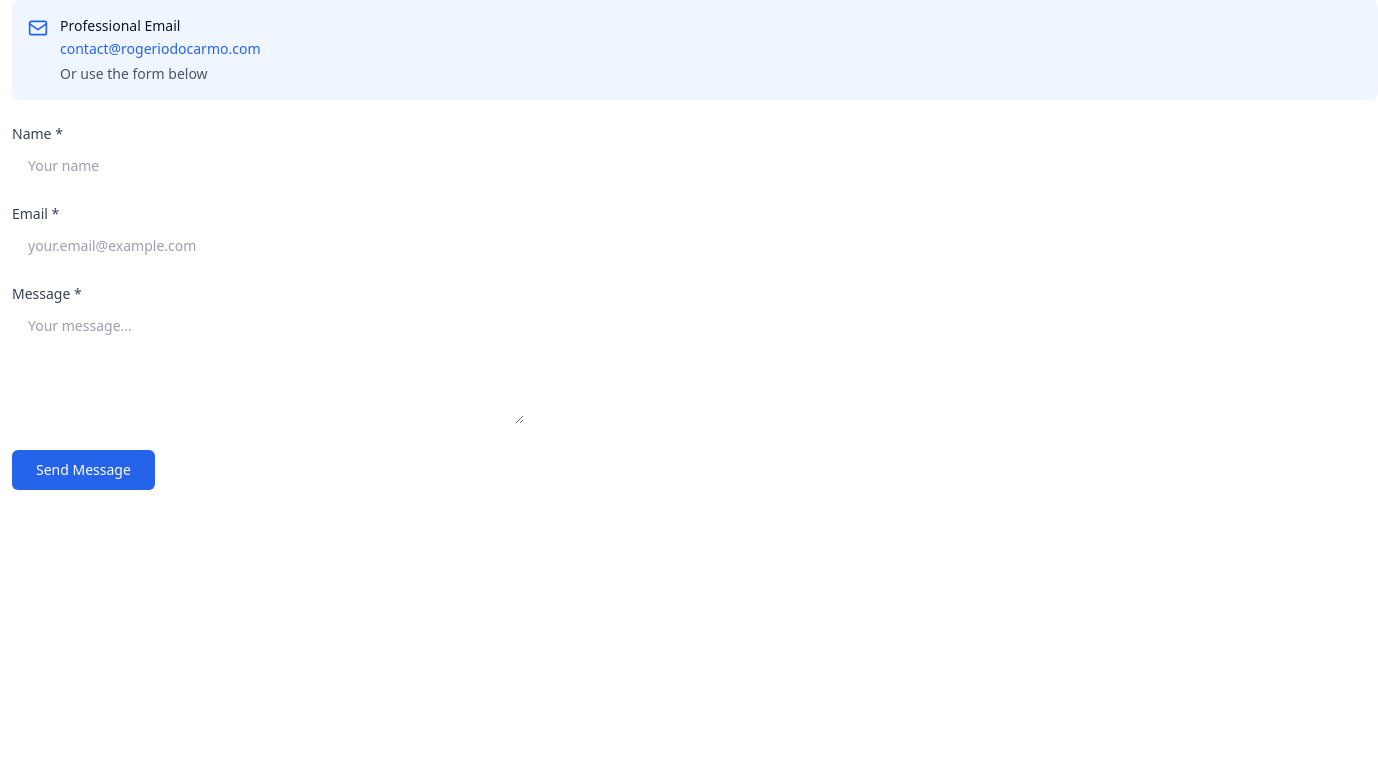
ContactForm Integration Tests › Complete form submission flow › fills form, submits, and sees success confirmation
Type "John Doe" into the field labelled "Name *" at (268, 166), box [12,148,524,184]
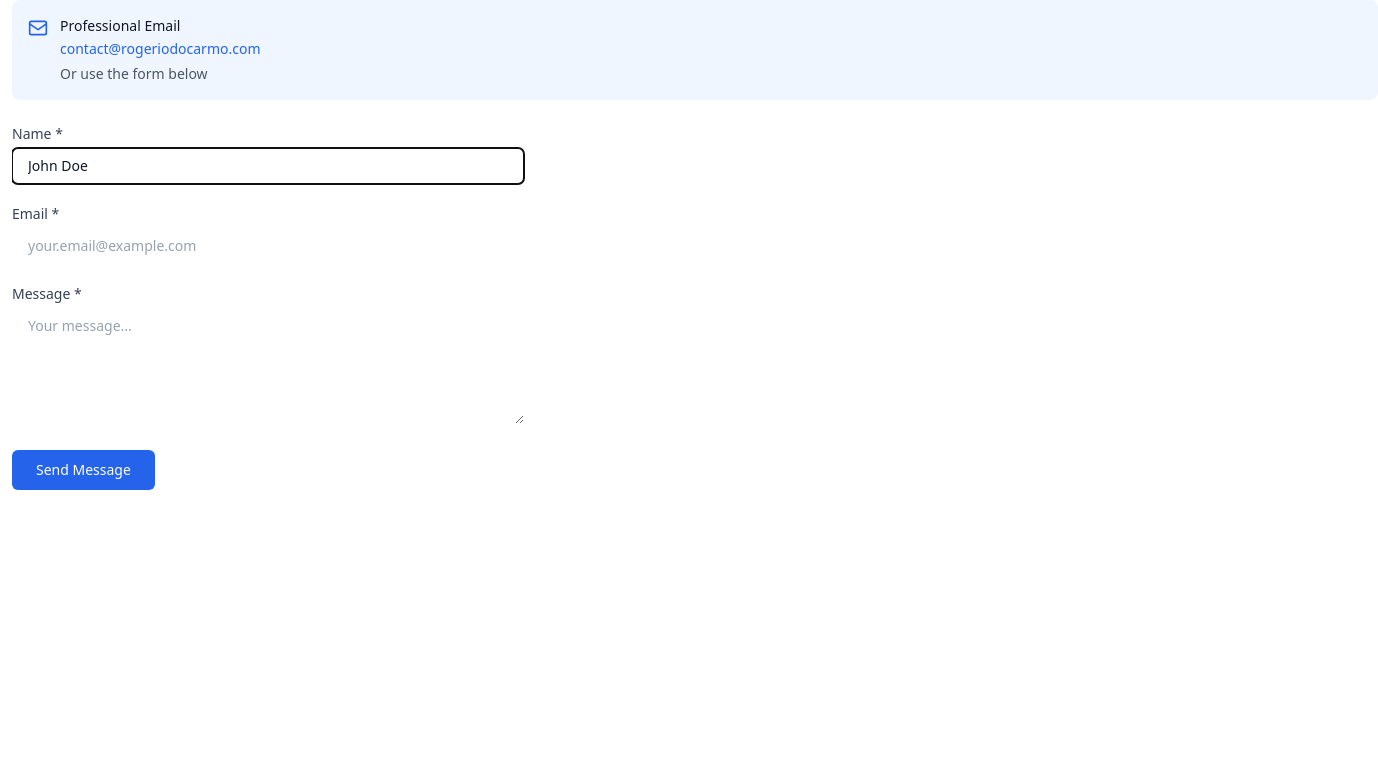
Type "john.doe@example.com" into the field labelled "Email *" at (268, 246), box [12,228,524,264]
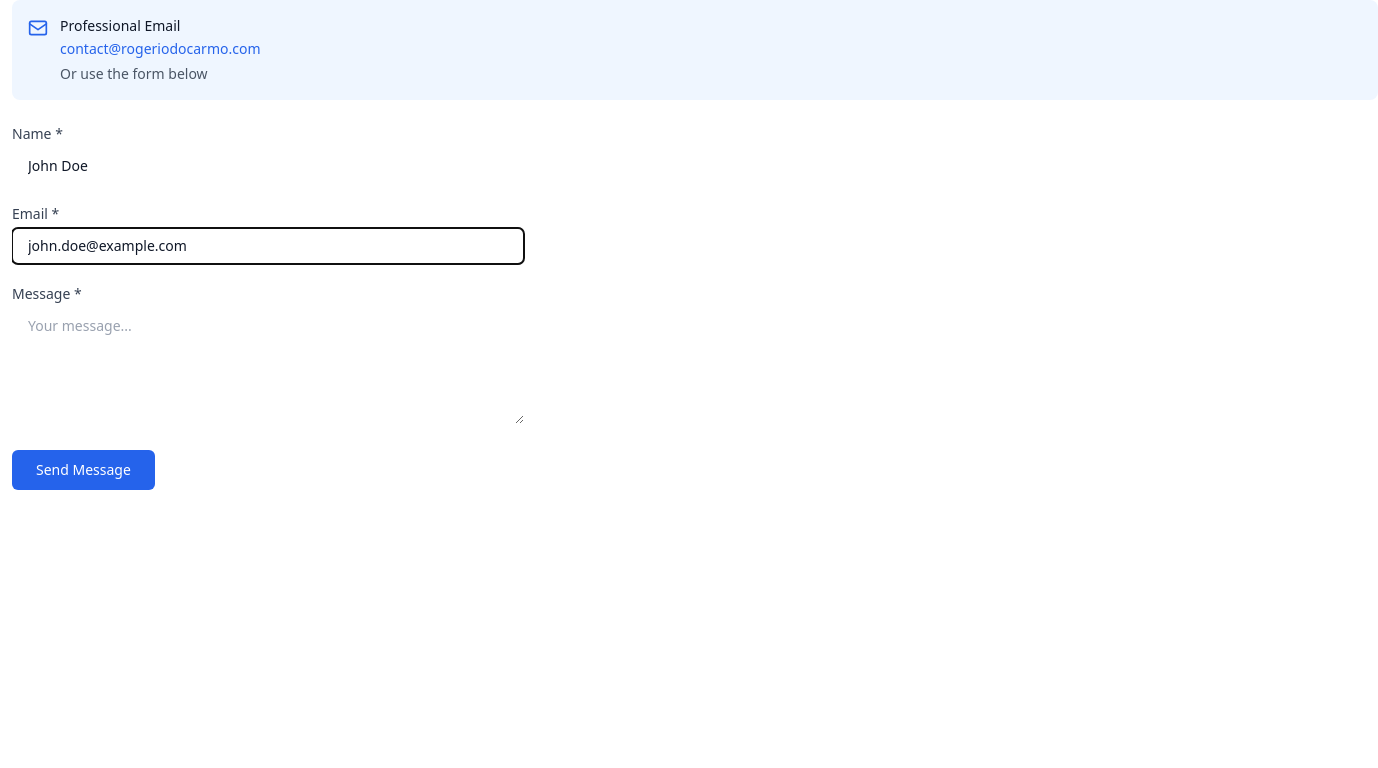
Type "This is a test message that is long enough to pass validation." into the text box labelled "Message *" at (268, 366), box [12,308,524,424]
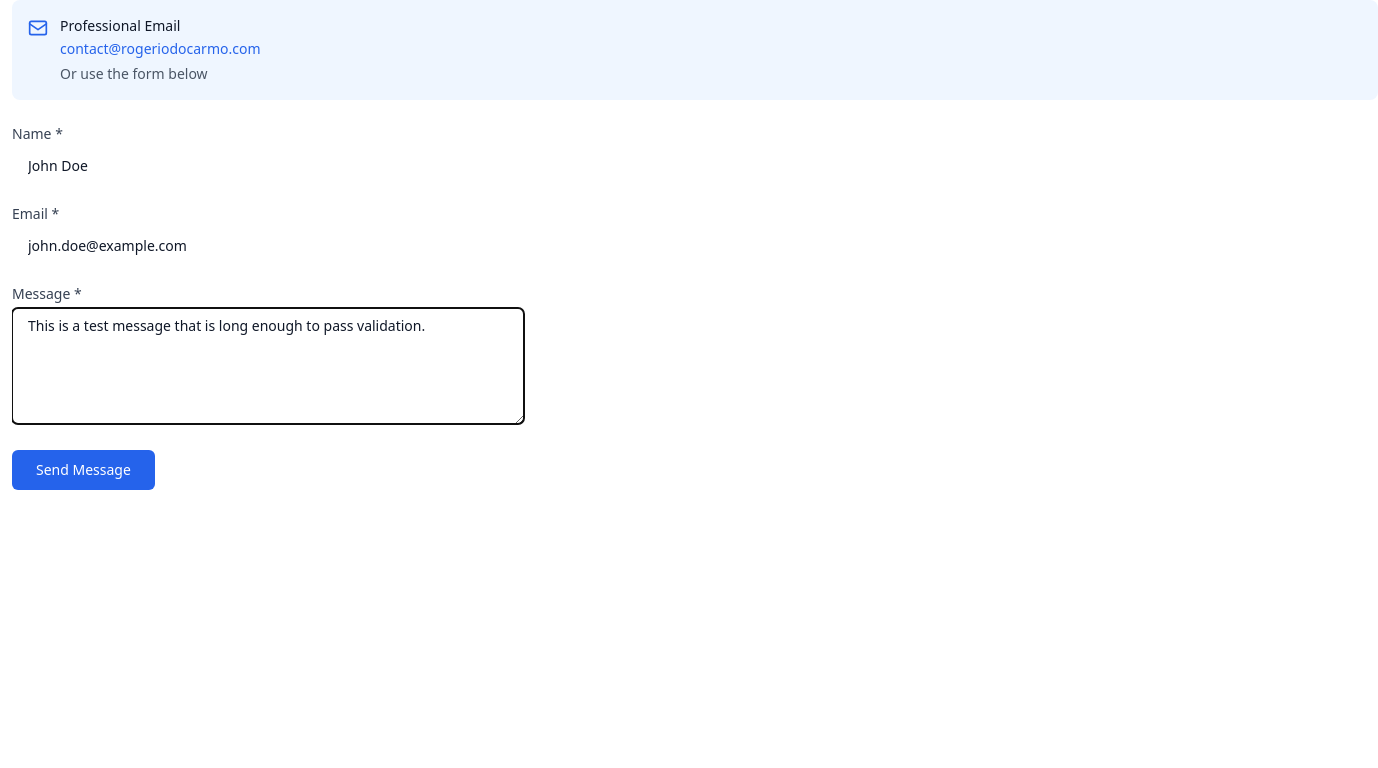
Note: Submit the form
Click the button "Send Message" at (83, 470), box [12,450,155,490]
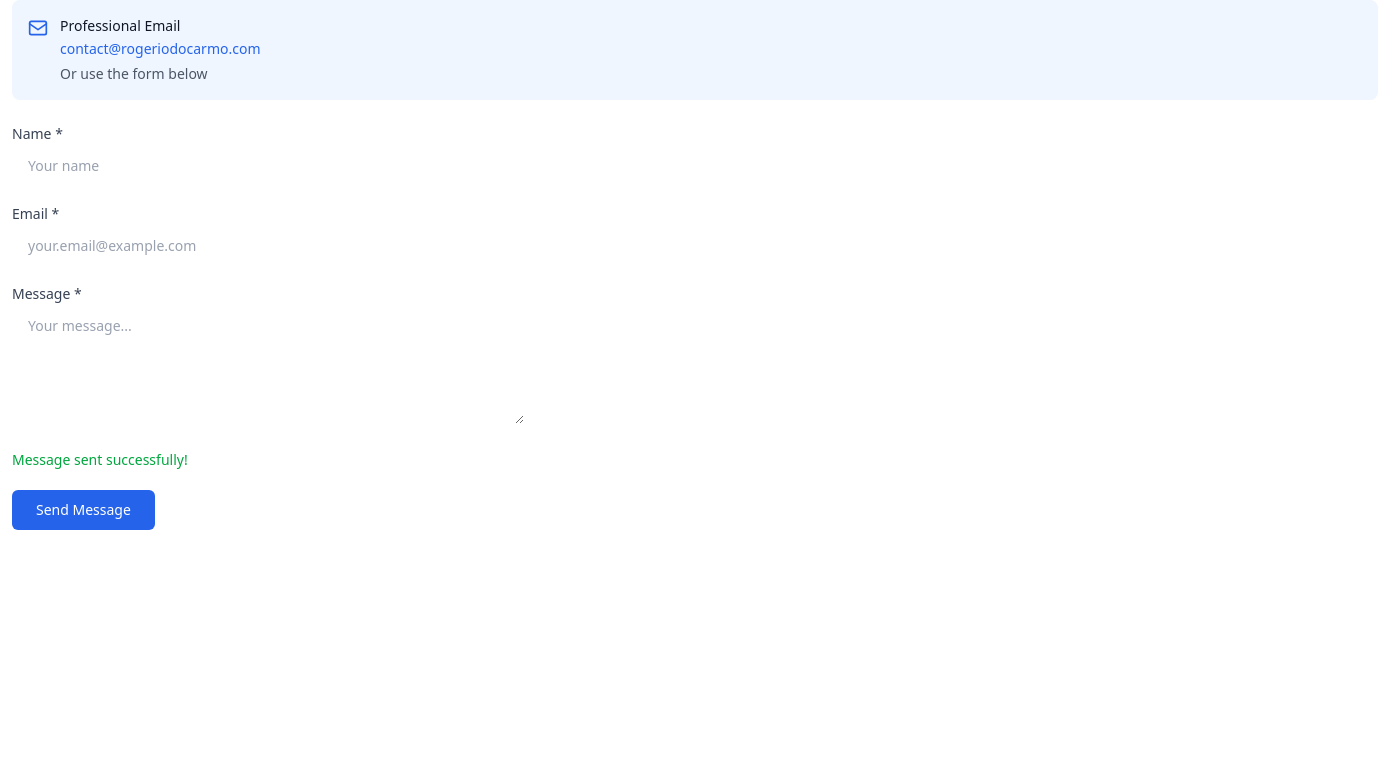
Expected: the text "Message sent successfully!" is shown, [12,450,188,469]
Expected: the field labelled "Name *" is empty, [12,148,524,184]
Expected: the field labelled "Email *" is empty, [12,228,524,264]
